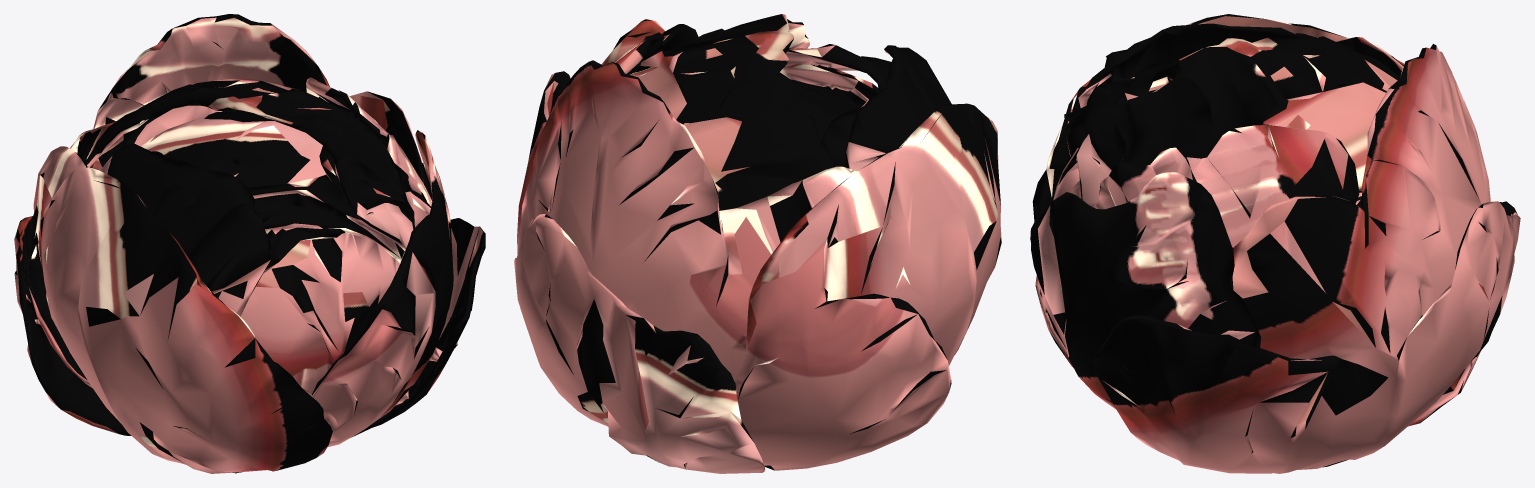
The model's file is 양배추 한통.fbx.
3 renders of one model, left to right at view 1: azimuth 30°, elevation 25°; view 2: azimuth 150°, elevation 25°; view 3: azimuth 270°, elevation 25°, orthographic. The views are drawn at different scales.
Parts seen in each view (by area): view 1: Mesh1.0; view 2: Mesh1.0; view 3: Mesh1.0.
Part boxes in pixels (x1=…): Mesh1.0: x1=14, y1=14, x2=485, y2=473; Mesh1.0: x1=514, y1=14, x2=1001, y2=473; Mesh1.0: x1=1030, y1=14, x2=1520, y2=473.
Size of the model in its own units: 189 by 171 by 184.
